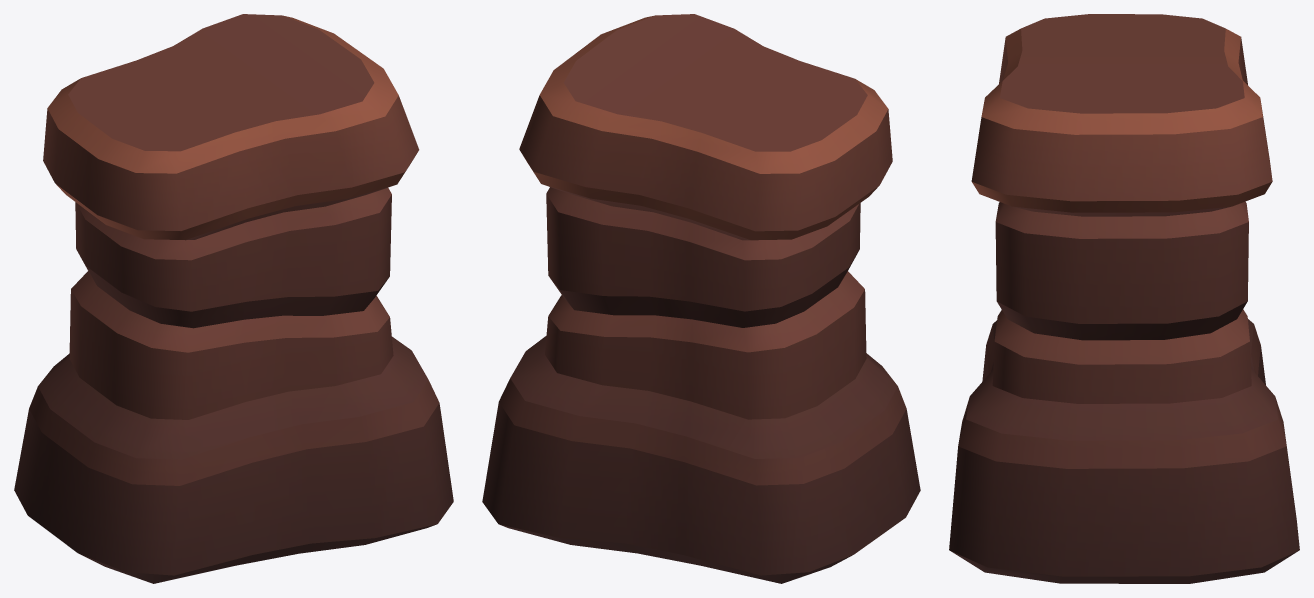
Rendered from rock_big_B_5.glb.
3 renders of one model, left to right at view 1: azimuth 30°, elevation 25°; view 2: azimuth 150°, elevation 25°; view 3: azimuth 270°, elevation 25°, orthographic. The views are drawn at different scales.
Parts seen in each view (by area): view 1: rock_big_B_5; view 2: rock_big_B_5; view 3: rock_big_B_5.
Boxes of the visible parts, <box> form: rock_big_B_5: <box>14,14,453,583</box>; rock_big_B_5: <box>482,14,920,583</box>; rock_big_B_5: <box>949,14,1299,583</box>.
Bounding box in the file's own units: 6.49 × 7.76 × 5.47.
Materials: 1 (1 with a texture image).
